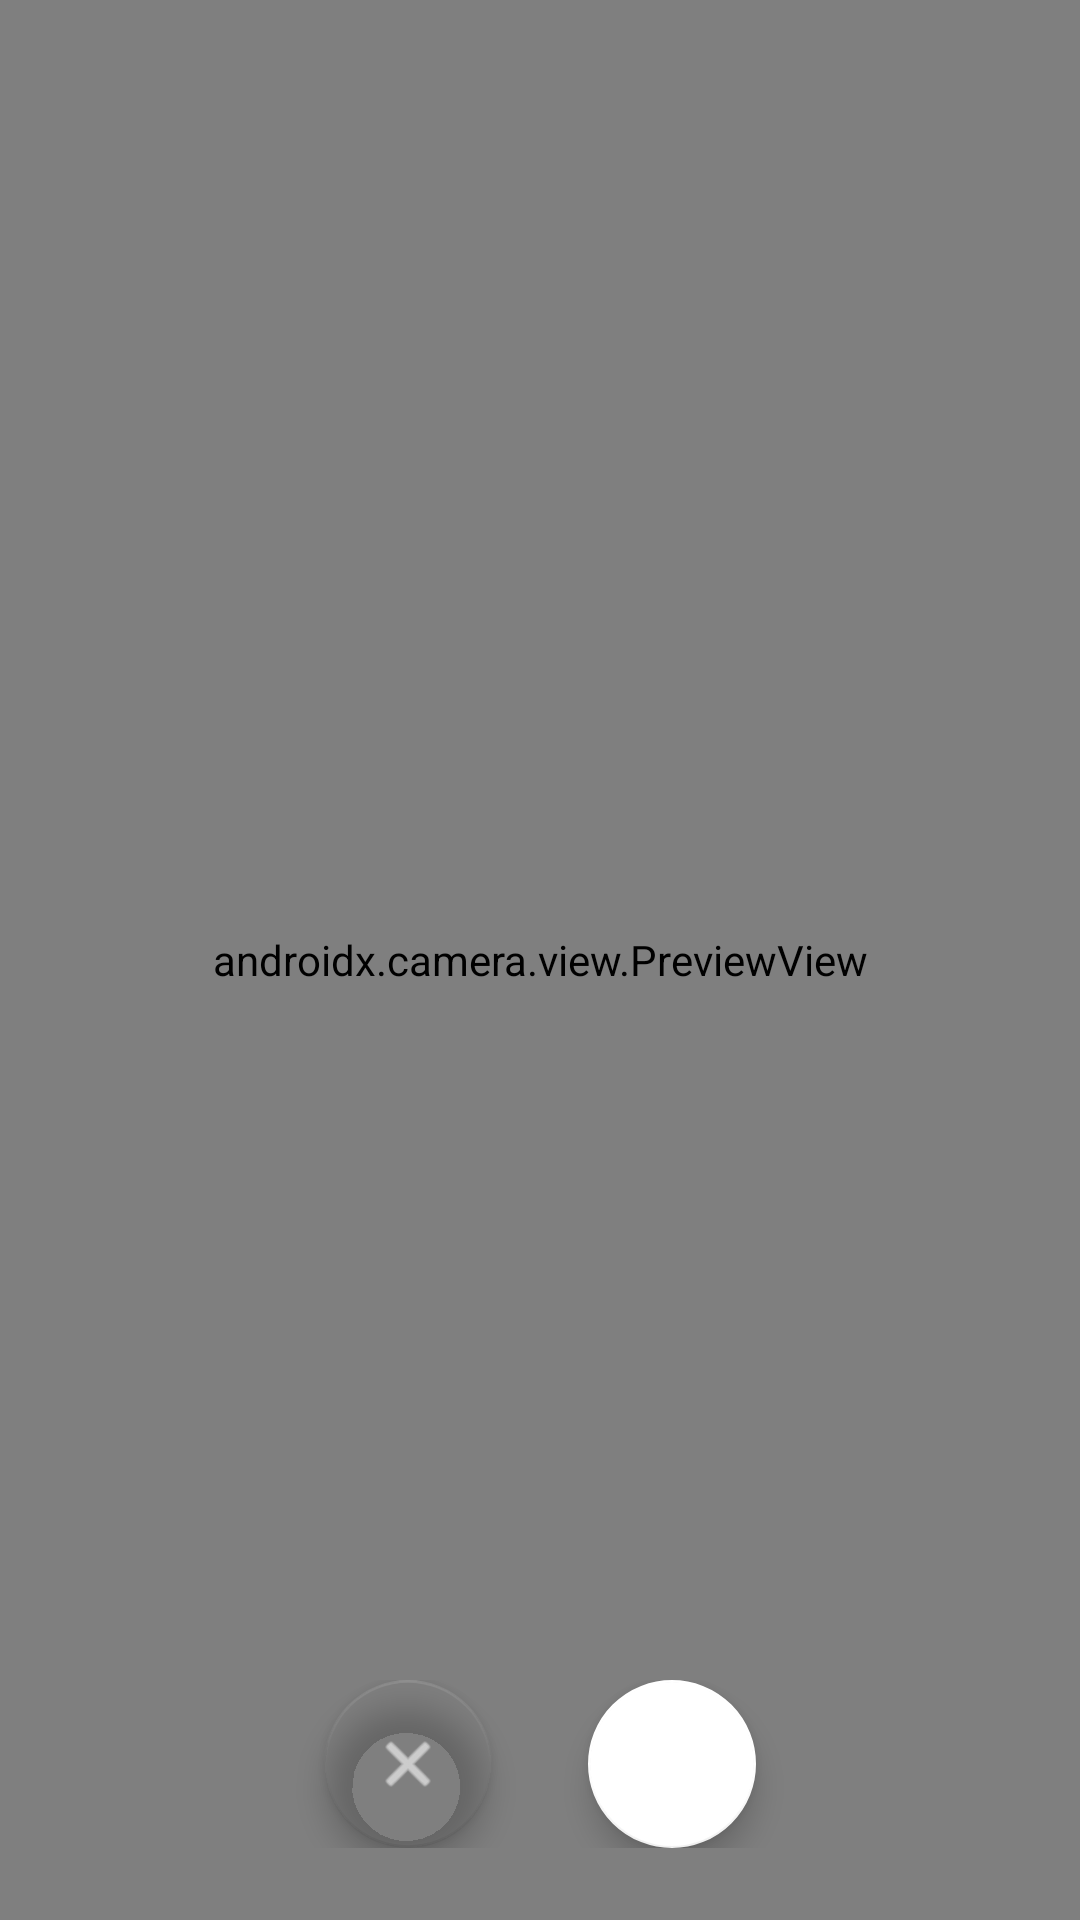

Where to tap for icons on this 1080x1920 app screen, as [x,y]:
Cancel: [405,1795]
